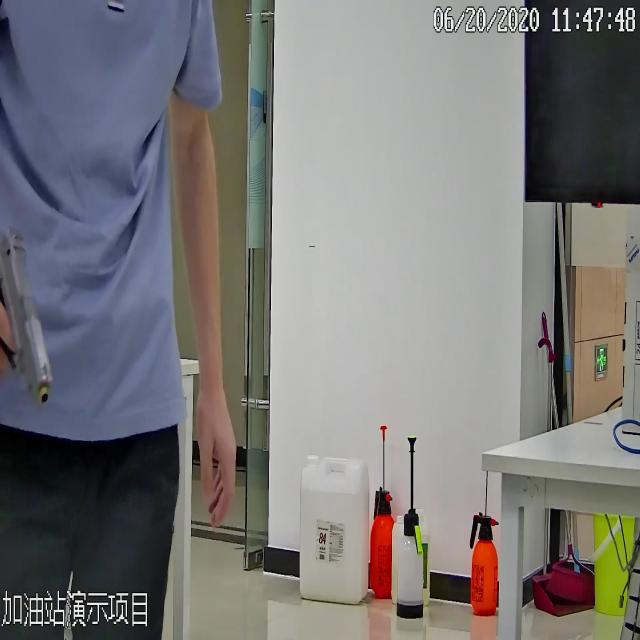gun-knife-thesis - v11 Yolov5 augmented: (0, 229, 54, 406)
